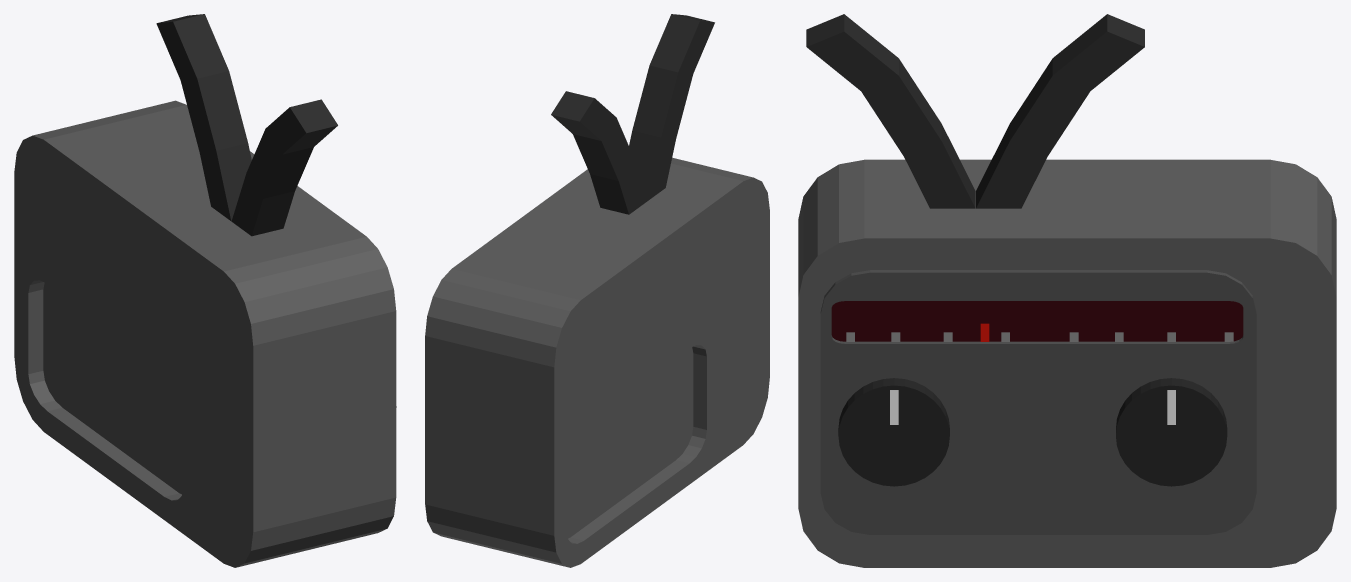
Rendered from radio.fbx.
3 views of the same model, side by side, from view 1: azimuth 30°, elevation 25°; view 2: azimuth 150°, elevation 25°; view 3: azimuth 270°, elevation 25° (orthographic). The views are drawn at different scales.
Visible parts, largest first — view 1: Cube; view 2: Cube; view 3: Cube, Cube.002, Cylinder.001, Cylinder, Cube.001.
Boxes of the visible parts, left/top/right/bottom form: Cube: left=14, top=14, right=396, bottom=567; Cube: left=425, top=14, right=769, bottom=567; Cube: left=798, top=14, right=1336, bottom=567; Cube.002: left=831, top=301, right=1243, bottom=341; Cylinder.001: left=1116, top=378, right=1227, bottom=486; Cylinder: left=838, top=378, right=949, bottom=486; Cube.001: left=846, top=332, right=1233, bottom=341.
Bounding box in the file's own units: 14.25 × 37.7 × 36.31.
